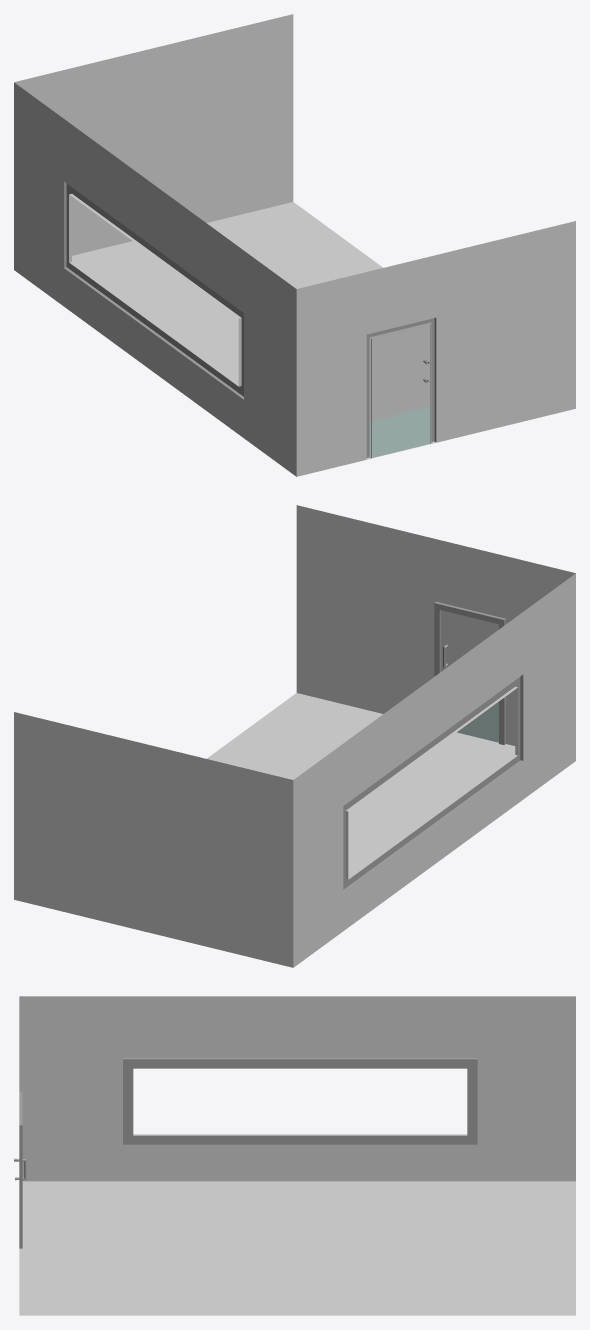
File: Hospital Room.fbx
3 views of the same model, one above another, from view 1: azimuth 30°, elevation 25°; view 2: azimuth 150°, elevation 25°; view 3: azimuth 270°, elevation 25° (orthographic).
Parts seen in each view (by area): view 1: Hospital Room; view 2: Hospital Room; view 3: Hospital Room.
Boxes of the visible parts, left/top/right/bottom form: Hospital Room: left=14, top=14, right=575, bottom=476; Hospital Room: left=14, top=505, right=575, bottom=967; Hospital Room: left=14, top=996, right=575, bottom=1315.
Bounding box in the file's own units: 234 × 150 × 413.
